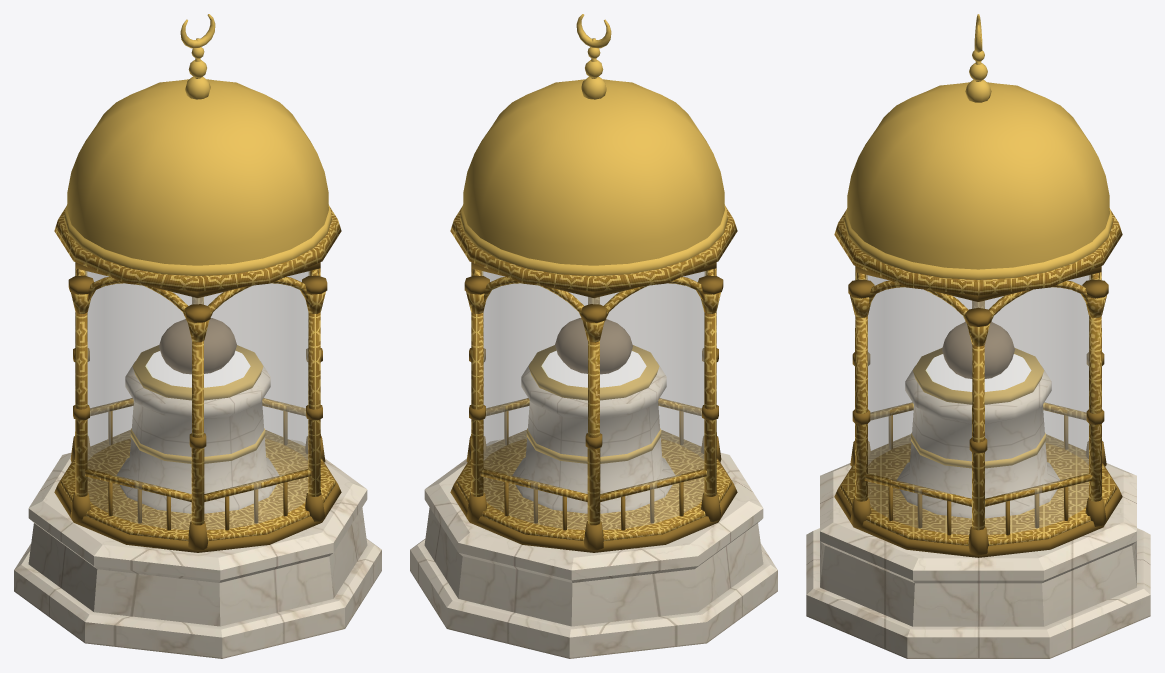
Rendered from maqam.glb.
The picture shows the model from 3 angles, left to right: view 1: azimuth 30°, elevation 25°; view 2: azimuth 150°, elevation 25°; view 3: azimuth 270°, elevation 25°; orthographic projection.
Parts seen in each view (by area): view 1: maqam; view 2: maqam; view 3: maqam.
Part boxes in pixels (left/top/right/bottom): maqam: left=14, top=14, right=381, bottom=658; maqam: left=410, top=14, right=777, bottom=658; maqam: left=806, top=14, right=1150, bottom=658.
Size of the model in its own units: 1.88 by 3.43 by 1.88.
Materials: 7 (2 with a texture image).
